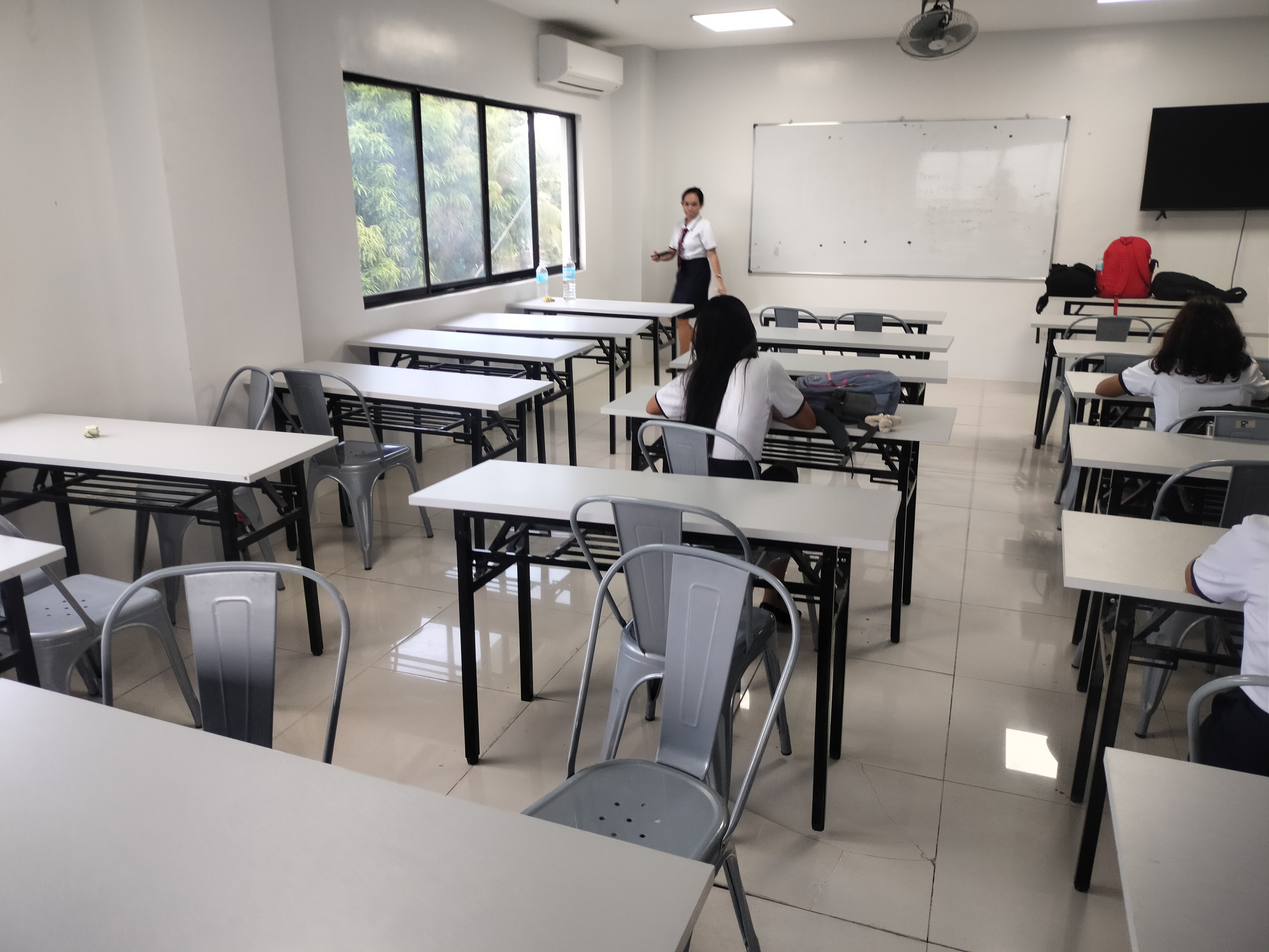with-student: (597, 291, 961, 478), (1063, 289, 1269, 434)
